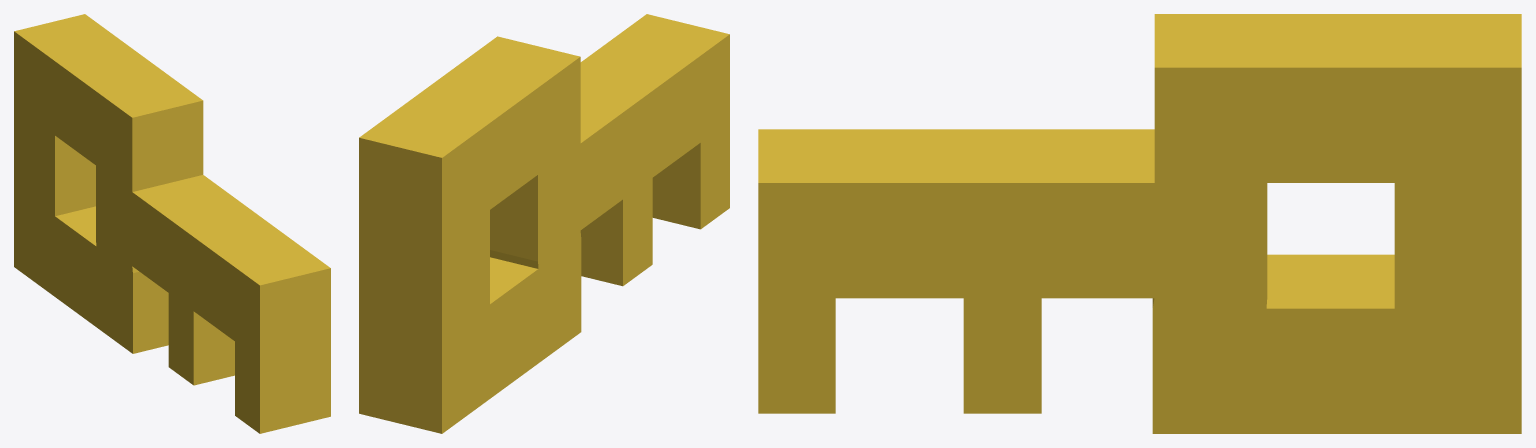
Rendered from Key.fbx.
3 views of the same model, side by side, from view 1: azimuth 30°, elevation 25°; view 2: azimuth 150°, elevation 25°; view 3: azimuth 270°, elevation 25° (orthographic). The views are drawn at different scales.
Parts seen in each view (by area): view 1: Key; view 2: Key; view 3: Key.
Part boxes in pixels (<box>): Key: <box>14,14,330,433</box>; Key: <box>359,14,729,433</box>; Key: <box>758,14,1521,433</box>.
Bounding box in the file's own units: 25 × 79.38 × 150.
